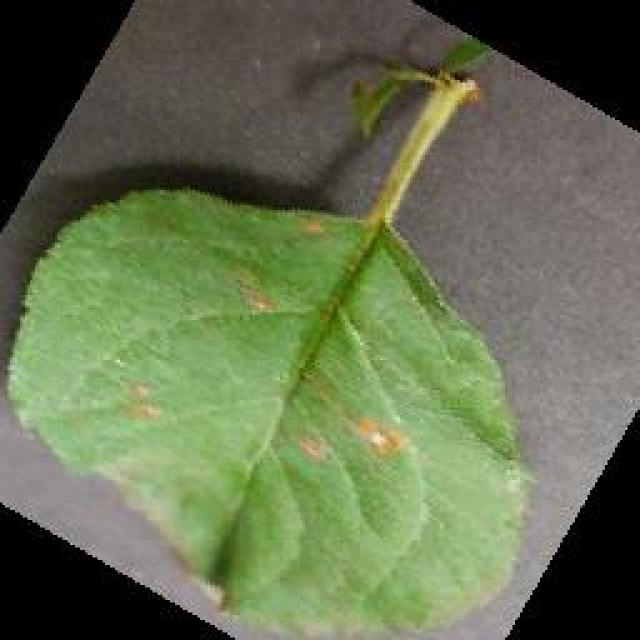apple healthy: (2, 48, 538, 638)
